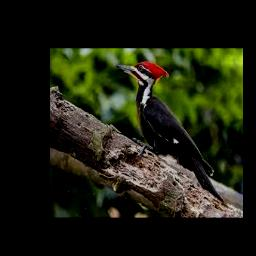Woodpecker: (115, 60, 226, 204)
